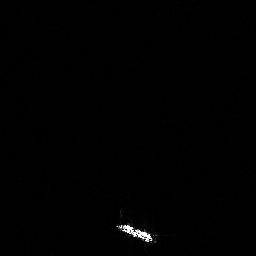ship: (115, 223, 153, 243)
